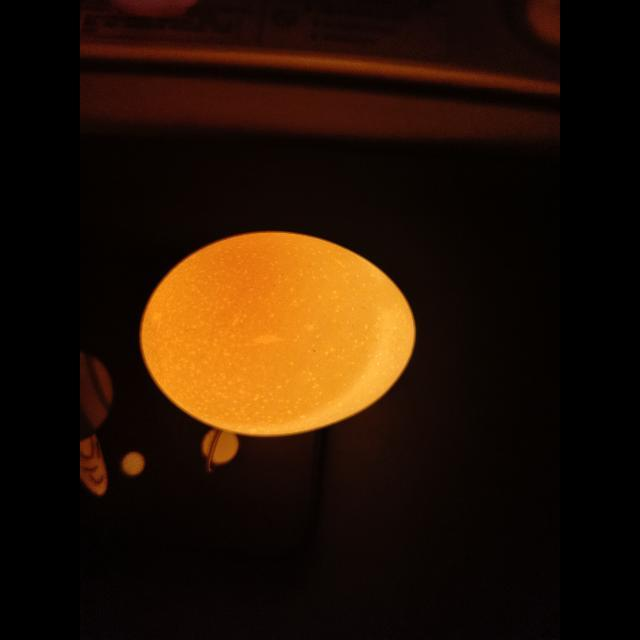AA - Premium: (140, 231, 415, 436)
